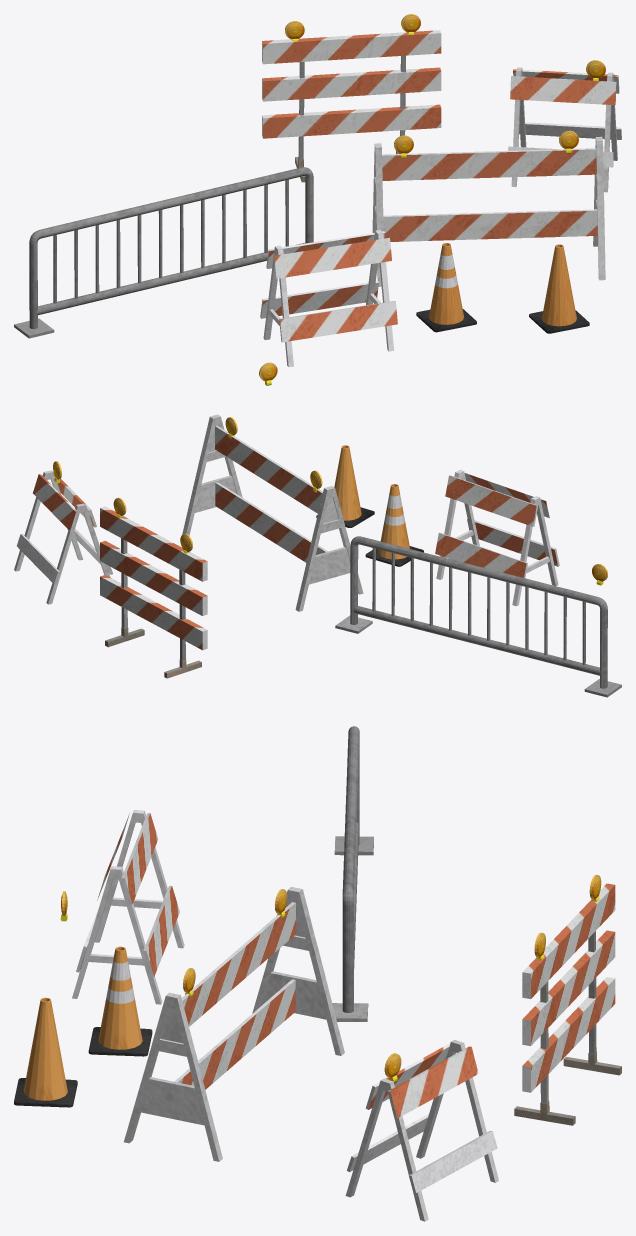
File: barric_03.glb
The picture shows the model from 3 angles, top to bottom: view 1: azimuth 30°, elevation 25°; view 2: azimuth 150°, elevation 25°; view 3: azimuth 270°, elevation 25°; orthographic projection. The views are drawn at different scales.
Visible parts, largest first — view 1: geometry_0; view 2: geometry_0; view 3: geometry_0.
Boxes of the visible parts, left/top/right/bottom form: geometry_0: left=14, top=14, right=621, bottom=385; geometry_0: left=14, top=414, right=621, bottom=697; geometry_0: left=14, top=726, right=621, bottom=1221.
Bounding box in the file's own units: 5.98 × 1.38 × 4.
1 material, 1 textured.
